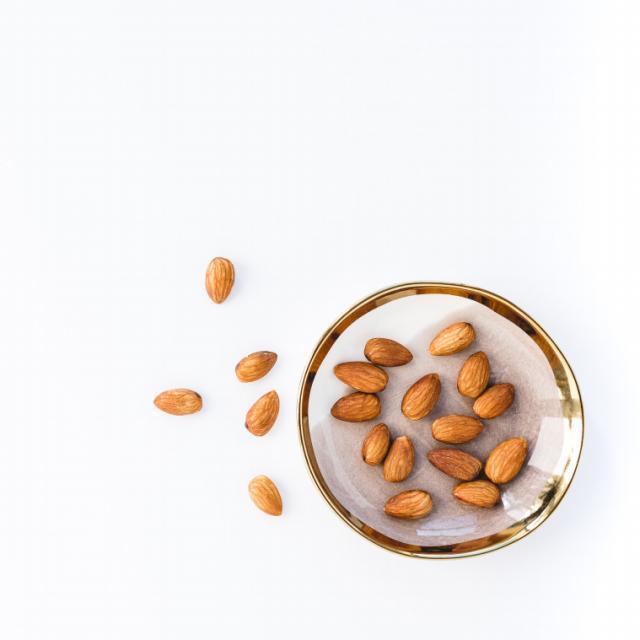almond: (484, 436, 528, 484), (401, 372, 442, 422), (426, 447, 483, 481), (332, 362, 390, 392), (428, 320, 476, 355), (244, 390, 280, 436), (473, 382, 516, 420), (204, 257, 237, 304), (365, 337, 415, 368), (382, 435, 414, 483), (383, 490, 434, 520), (458, 351, 491, 397), (433, 415, 485, 444), (154, 387, 203, 417), (329, 393, 381, 421), (361, 423, 393, 467), (234, 351, 279, 382), (249, 474, 281, 516), (454, 480, 501, 508)
